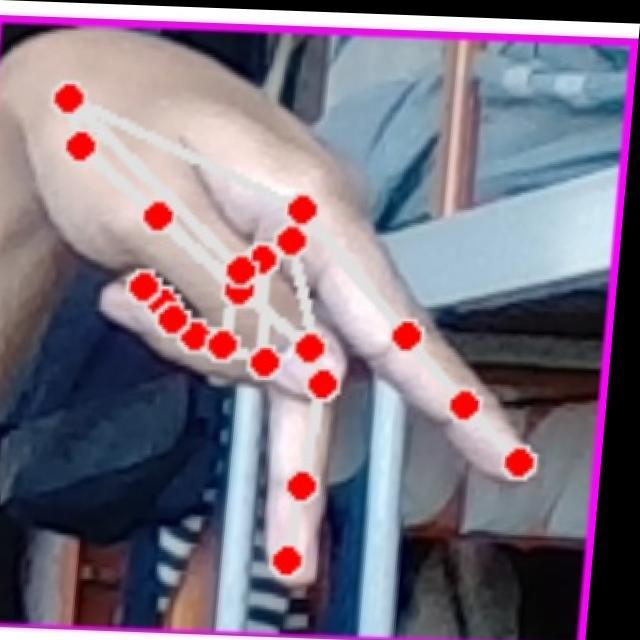P: (0, 26, 589, 592)
